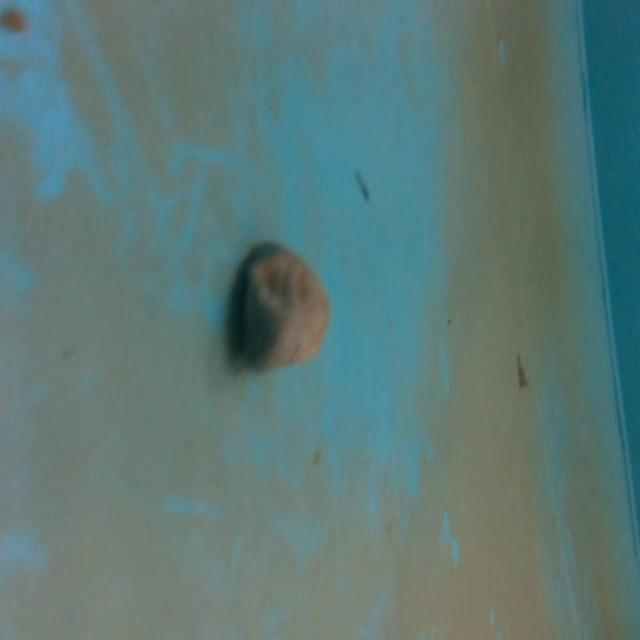rock: (231, 233, 339, 382)
